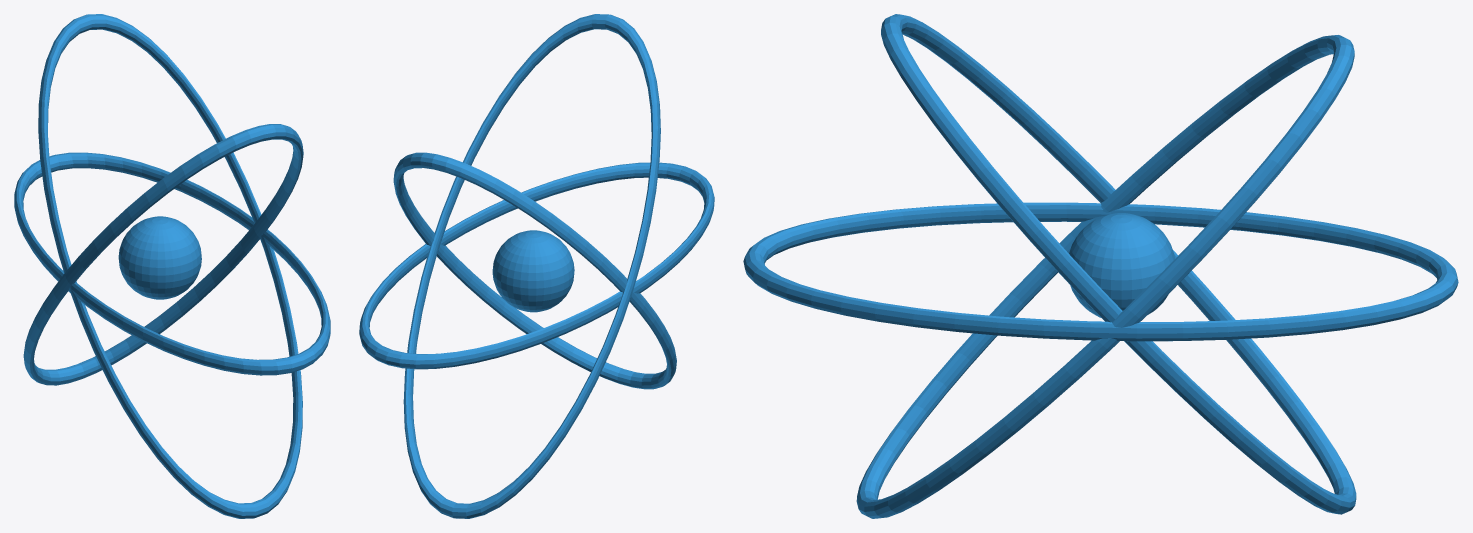
The model's file is react.glb.
3 renders of one model, left to right at view 1: azimuth 30°, elevation 25°; view 2: azimuth 150°, elevation 25°; view 3: azimuth 270°, elevation 25°, orthographic. The views are drawn at different scales.
Visible parts, largest first — view 1: Torus.001, Torus.003, Torus.002, Sphere; view 2: Torus.003, Torus.002, Torus.001, Sphere; view 3: Torus.002, Torus.001, Torus.003, Sphere.
Boxes of the visible parts, x1,y1,x2,y2 form: Torus.001: (38, 14, 302, 518); Torus.003: (23, 124, 303, 385); Torus.002: (14, 152, 330, 375); Sphere: (118, 216, 201, 299); Torus.003: (403, 14, 660, 518); Torus.002: (359, 162, 714, 369); Torus.001: (393, 152, 676, 389); Sphere: (492, 230, 574, 312); Torus.002: (743, 202, 1458, 341); Torus.001: (856, 35, 1354, 518); Torus.003: (881, 14, 1356, 514); Sphere: (1069, 213, 1174, 317).
Bounding box in the file's own units: 0.1539 × 0.2757 × 0.3593.
4 materials, 4 textured.
